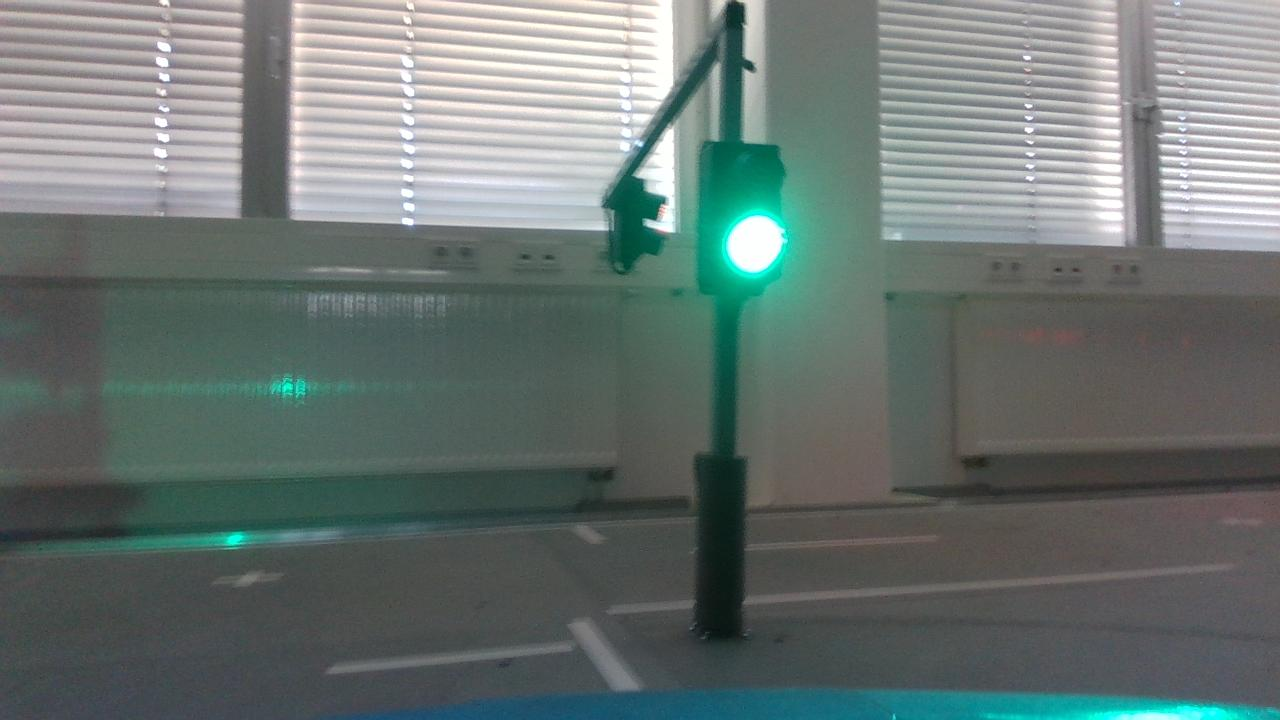traffic_light_green: (686, 125, 806, 315)
